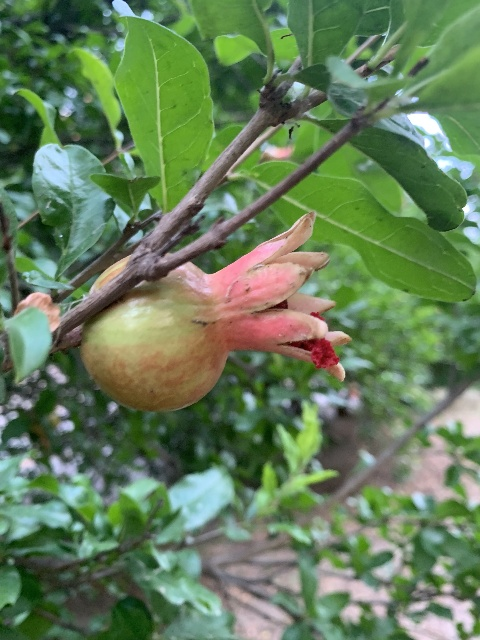early-fruit: (78, 212, 347, 413)
